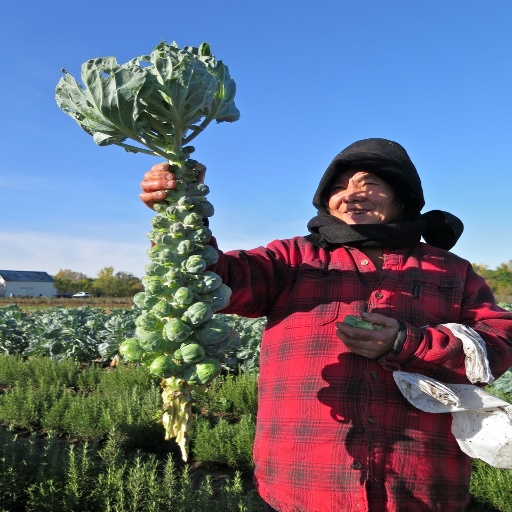hand: (134, 158, 206, 211), (348, 316, 416, 360)
